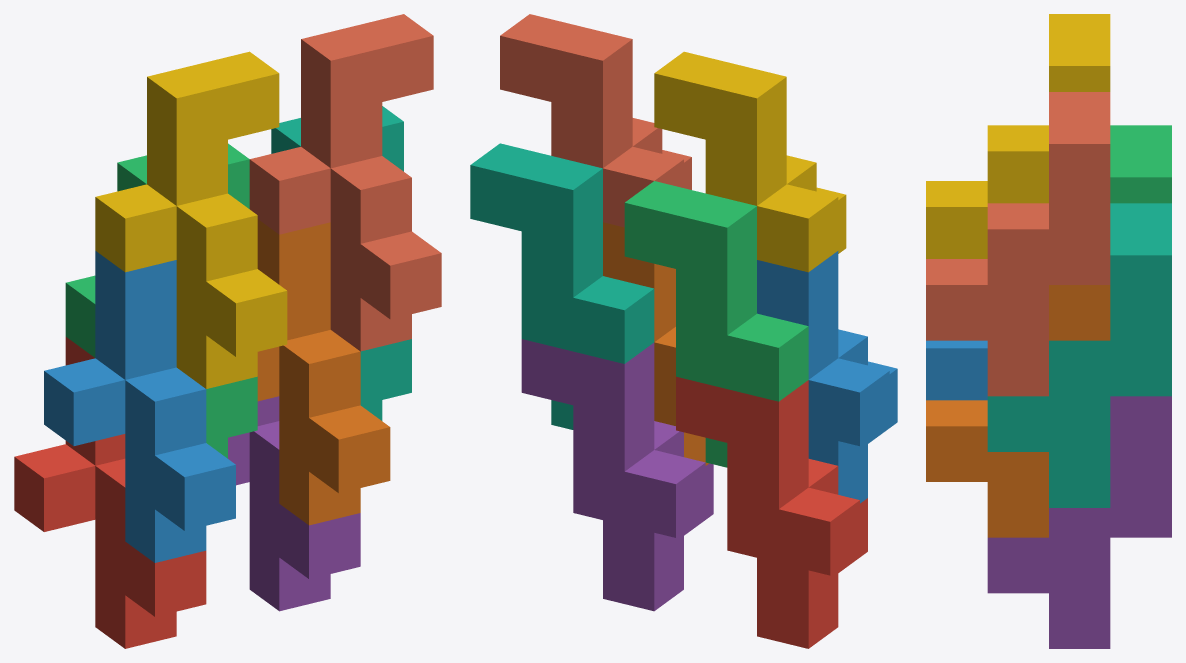
Rendered from tiling.obj.
The picture shows the model from 3 angles, left to right: view 1: azimuth 30°, elevation 25°; view 2: azimuth 150°, elevation 25°; view 3: azimuth 270°, elevation 25°; orthographic projection. The views are drawn at different scales.
Parts seen in each view (by area): view 1: copy_1_domain_8, copy_1_domain_4, copy_1_domain_2, copy_1_domain_6, copy_1_domain_1, copy_1_domain_5, copy_1_domain_3, copy_1_domain_7; view 2: copy_1_domain_1, copy_1_domain_5, copy_1_domain_7, copy_1_domain_3, copy_1_domain_4, copy_1_domain_8, copy_1_domain_2, copy_1_domain_6; view 3: copy_1_domain_8, copy_1_domain_7, copy_1_domain_5, copy_1_domain_4, copy_1_domain_6, copy_1_domain_3, copy_1_domain_2.
Part boxes in pixels (x1,y1,x2,y2): copy_1_domain_8: (249, 14, 441, 351); copy_1_domain_4: (95, 51, 287, 388); copy_1_domain_2: (44, 251, 235, 562); copy_1_domain_6: (257, 219, 390, 525); copy_1_domain_1: (14, 337, 206, 648); copy_1_domain_5: (228, 396, 360, 611); copy_1_domain_3: (65, 143, 257, 458); copy_1_domain_7: (271, 106, 411, 420); copy_1_domain_1: (676, 376, 867, 648); copy_1_domain_5: (521, 339, 713, 611); copy_1_domain_7: (470, 143, 654, 429); copy_1_domain_3: (624, 181, 808, 467); copy_1_domain_4: (654, 51, 846, 272); copy_1_domain_8: (500, 14, 691, 227); copy_1_domain_2: (757, 251, 897, 503); copy_1_domain_6: (603, 222, 708, 465); copy_1_domain_8: (926, 92, 1110, 396); copy_1_domain_7: (987, 203, 1171, 507); copy_1_domain_5: (987, 396, 1171, 648); copy_1_domain_4: (926, 14, 1110, 258); copy_1_domain_6: (926, 285, 1110, 537); copy_1_domain_3: (1110, 125, 1171, 203); copy_1_domain_2: (926, 340, 987, 400).
Size of the model in its own units: 7 by 10 by 4.
